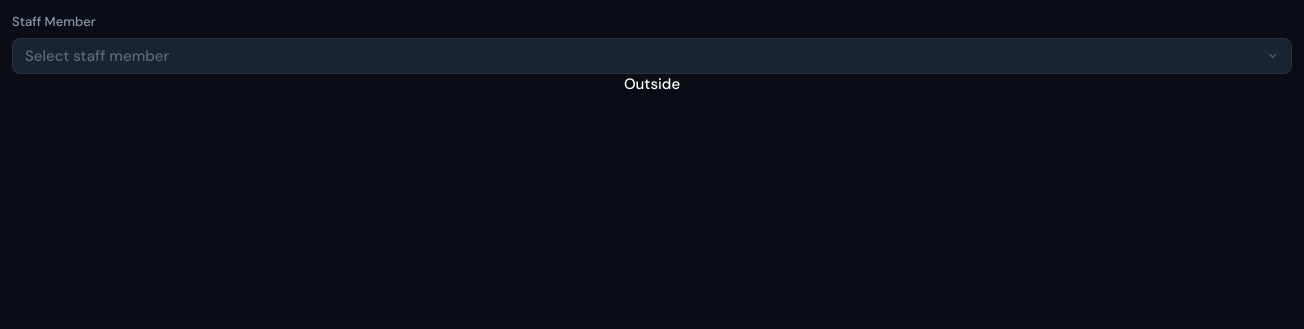
Test: SearchableSelect › opens on ArrowDown and ArrowUp
Press ArrowDown in the button "Select staff member", box [12, 38, 1292, 74]
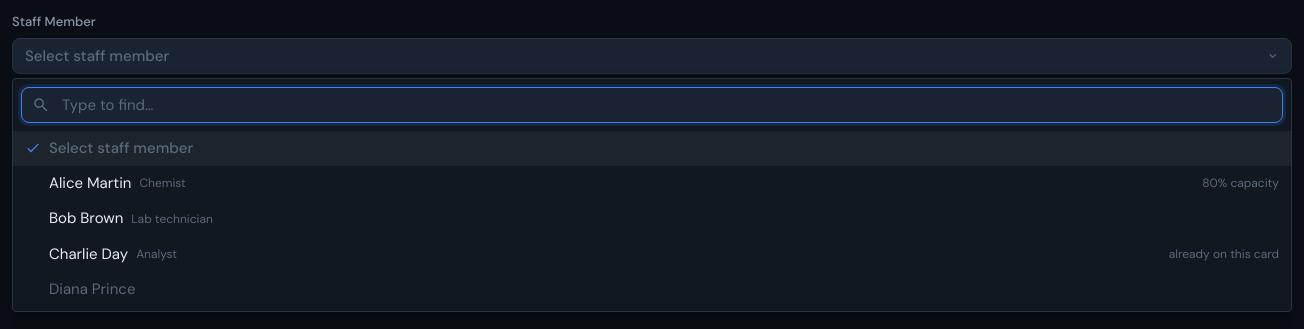
Press ArrowDown in the button "Select staff member", box [12, 38, 1292, 74]
Now the list "staff member" is shown, box [13, 126, 1291, 311]
Click the button "Select staff member".
click(97, 56)  # box [12, 38, 1292, 74]
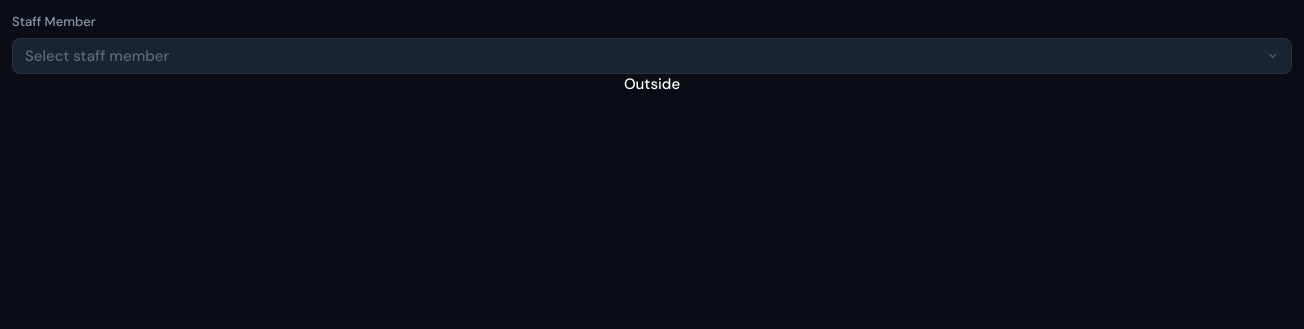
Press ArrowUp in the button "Select staff member", box [12, 38, 1292, 74]
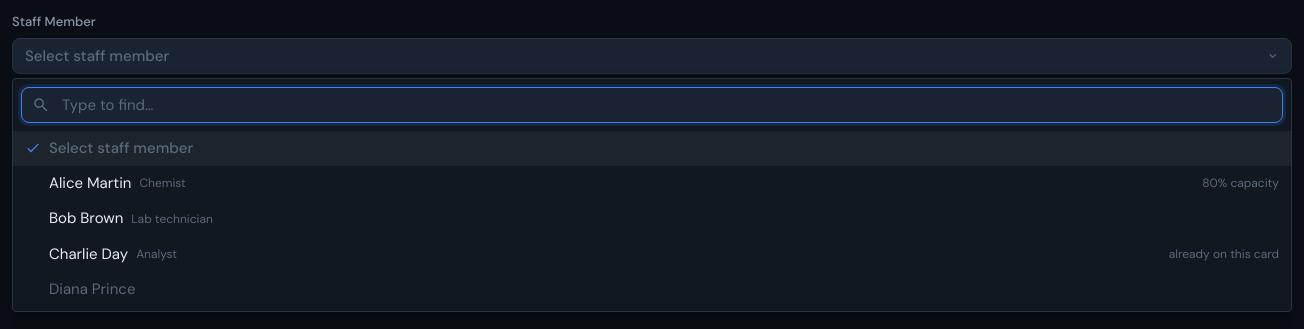
Now the list "staff member" is shown, box [13, 126, 1291, 311]
